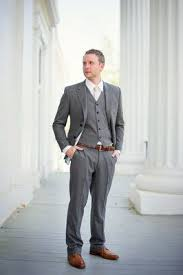F_M_suit jacket: (51, 78, 130, 158)
F_belt: (71, 138, 123, 155)
F_dress pants: (66, 144, 109, 245)
